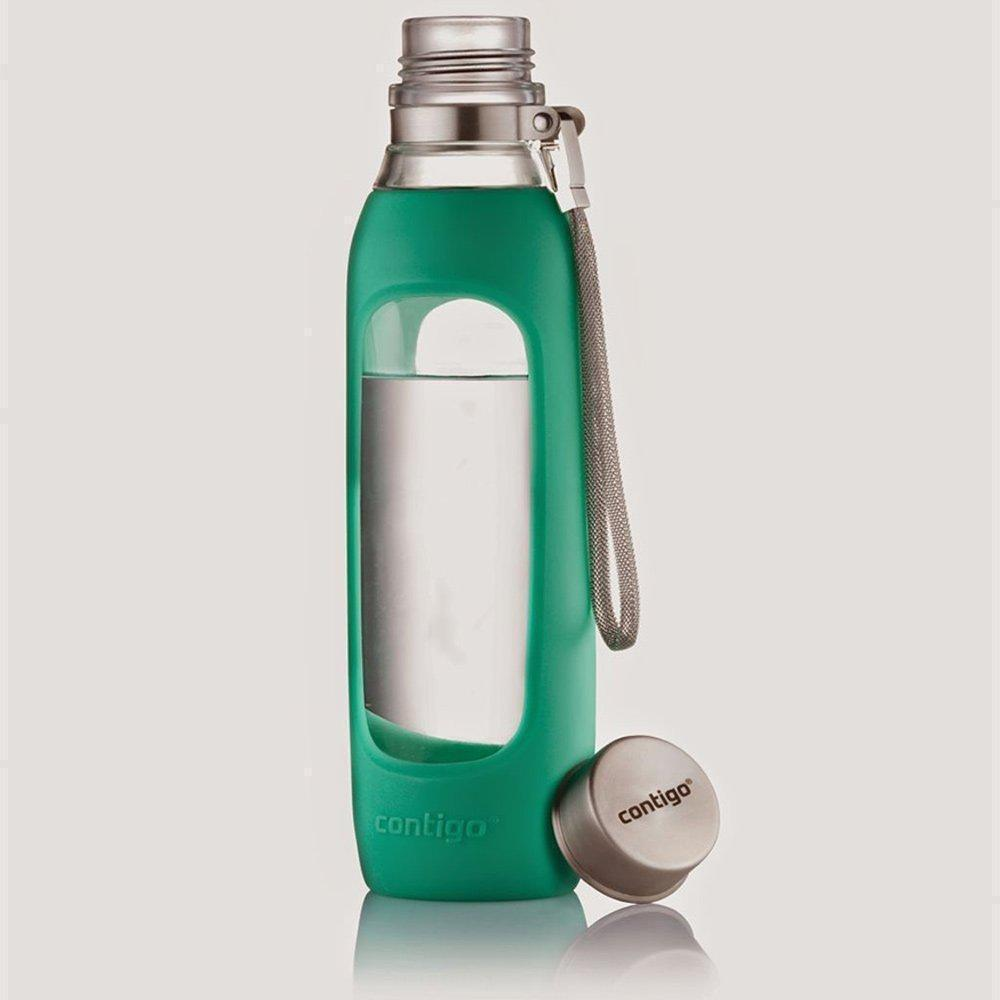gym bottle: (341, 10, 607, 907)
